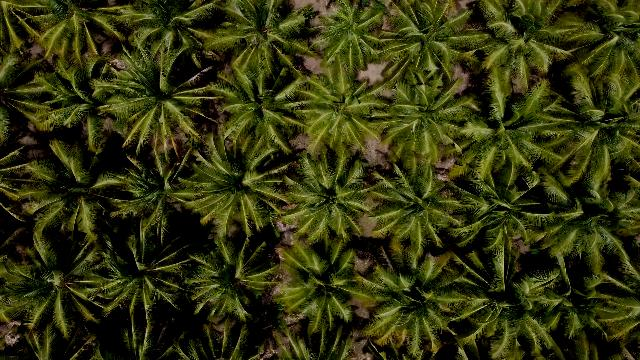trees: (5, 139, 139, 252), (98, 45, 228, 161), (453, 83, 575, 199), (175, 130, 294, 244), (204, 43, 316, 163), (4, 229, 112, 348), (365, 248, 479, 358), (451, 257, 569, 360), (463, 4, 582, 104), (81, 222, 194, 322), (369, 157, 472, 265), (273, 236, 373, 344), (371, 74, 476, 170), (5, 46, 113, 139), (6, 3, 133, 82), (281, 149, 378, 251), (291, 67, 389, 160), (555, 42, 640, 148), (529, 202, 640, 283), (562, 238, 640, 350), (183, 237, 279, 327), (113, 3, 224, 80), (380, 4, 475, 91), (202, 4, 317, 73), (309, 2, 391, 74), (1, 144, 45, 223)
